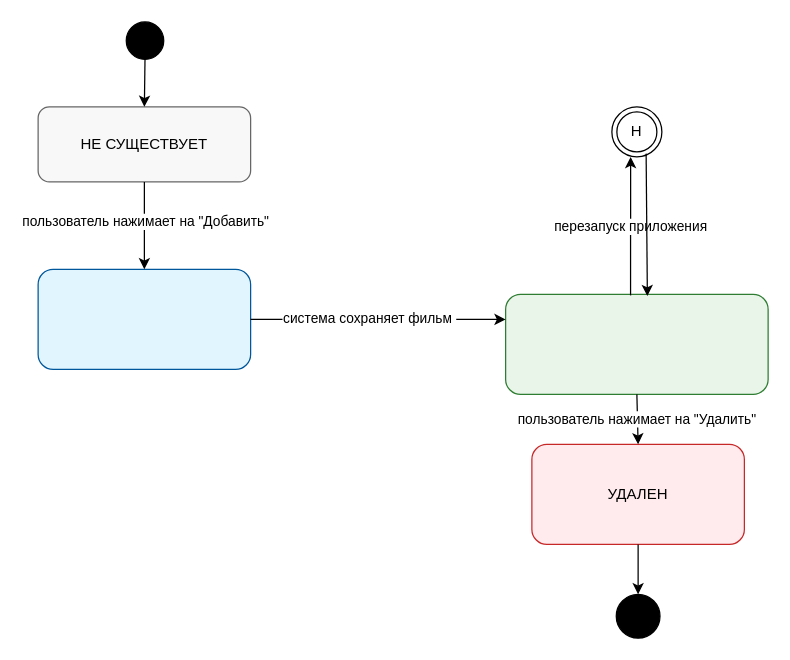
The diagram is 790 pixels wide and 660 high, and some of its shapes have lost their labels. Each missing label, with the centre of its shape:
"СОЗДАН" belongs at (x=144, y=318).
"СОХРАНЕН В ХРАНИЛИЩЕ" belongs at (x=636, y=343).
